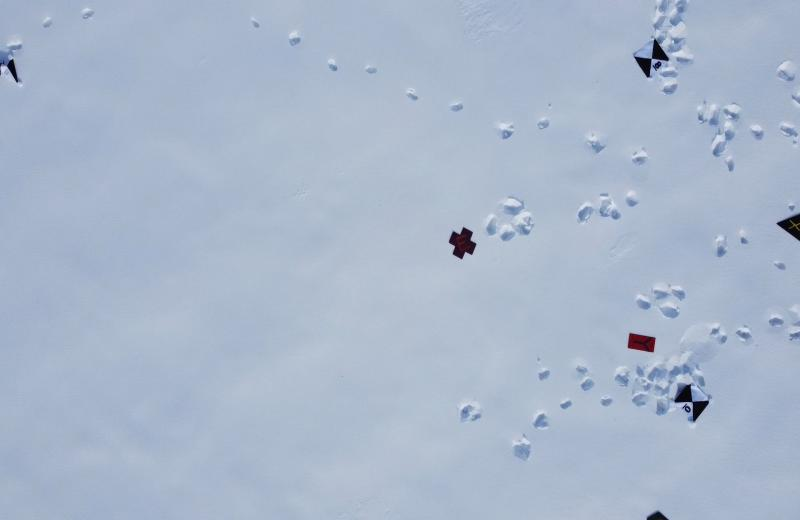Cross: (442, 219, 484, 276)
Rectangle: (618, 326, 670, 370)
Triangle: (759, 200, 800, 249)
